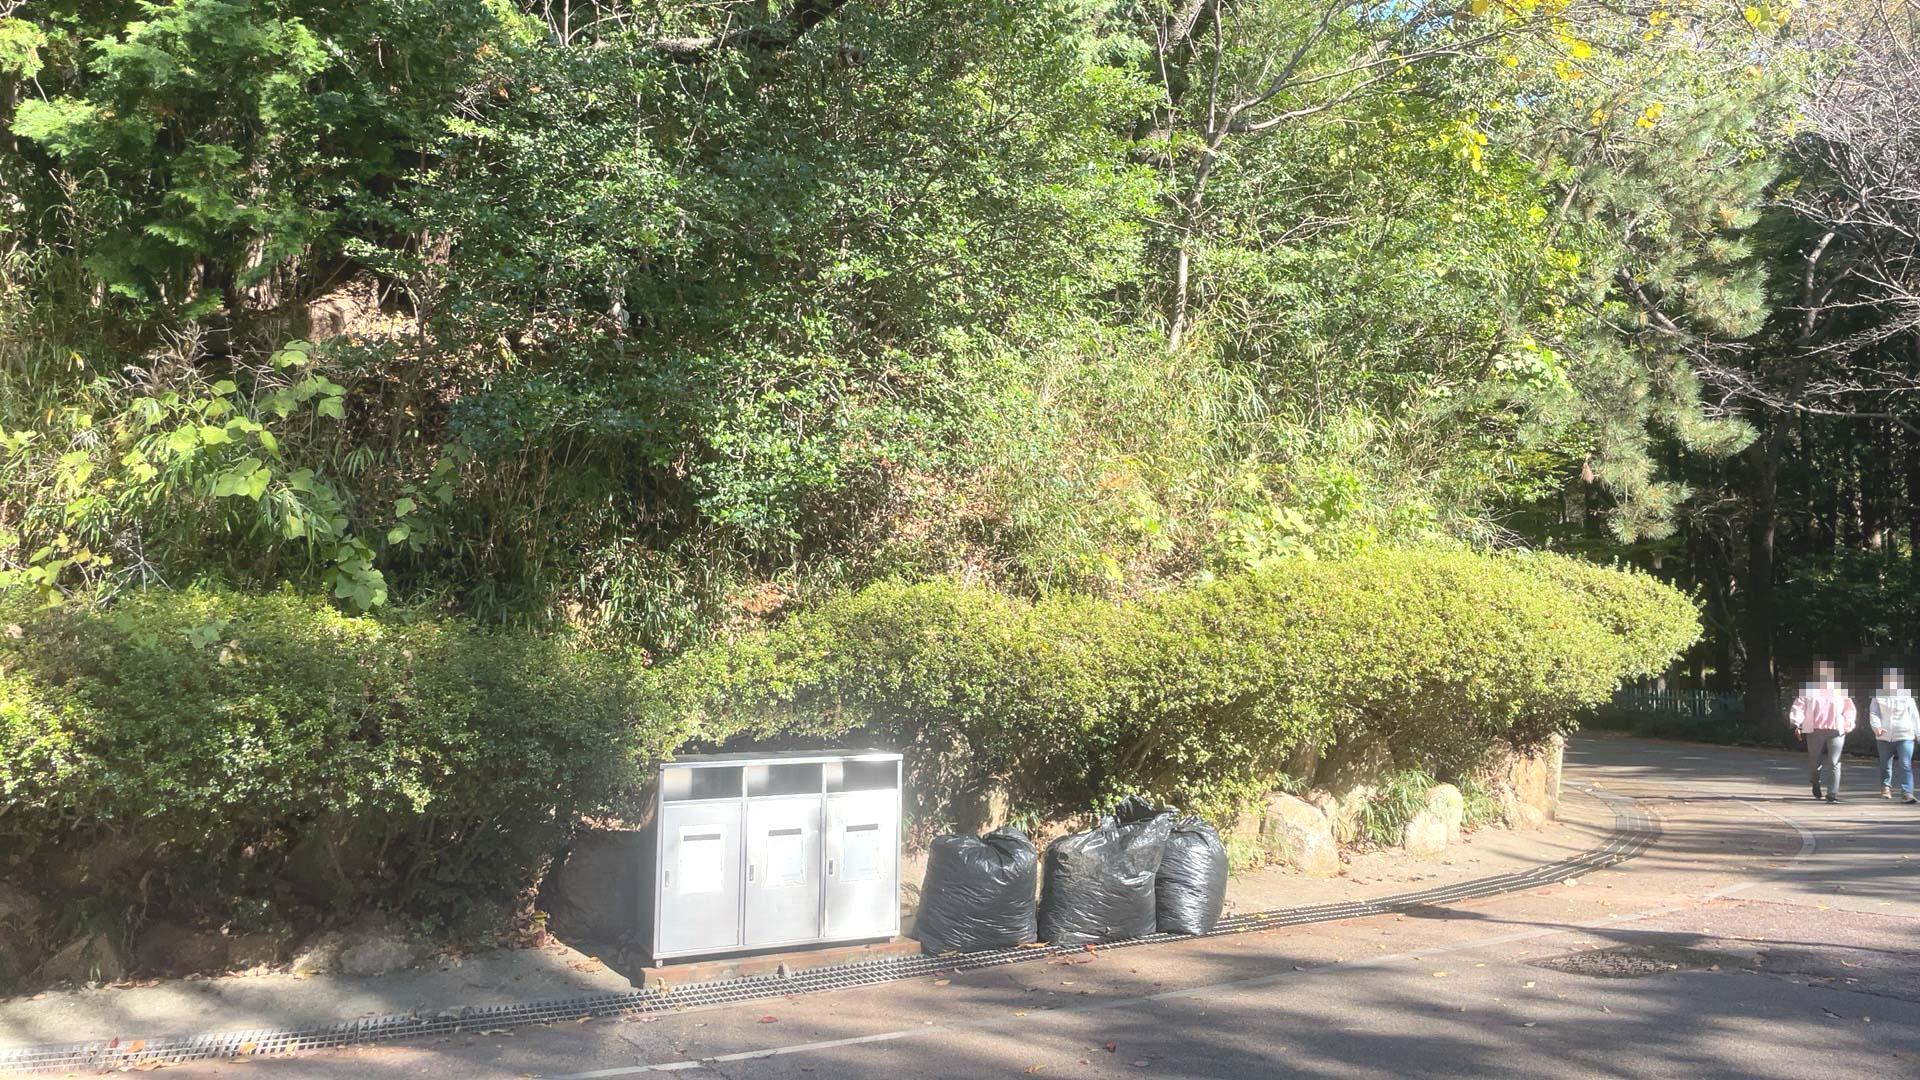black_bag: (1151, 812, 1229, 940)
white_bag: (1036, 790, 1176, 945), (906, 819, 1039, 956)
